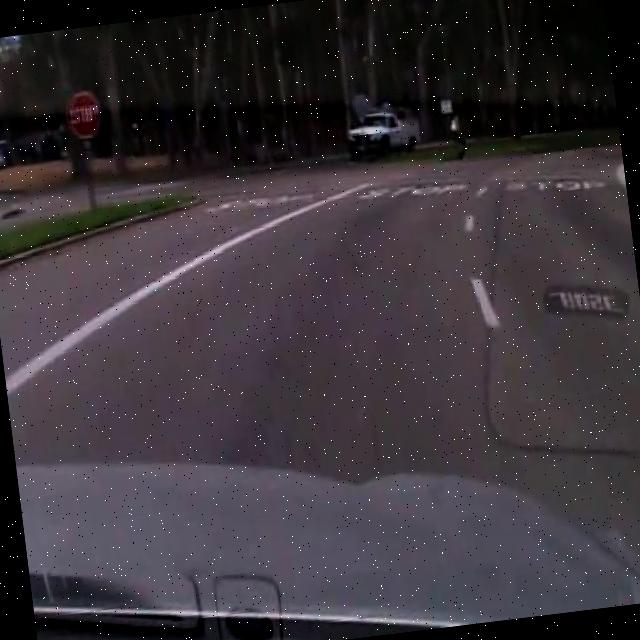Stop: (63, 88, 106, 144)
